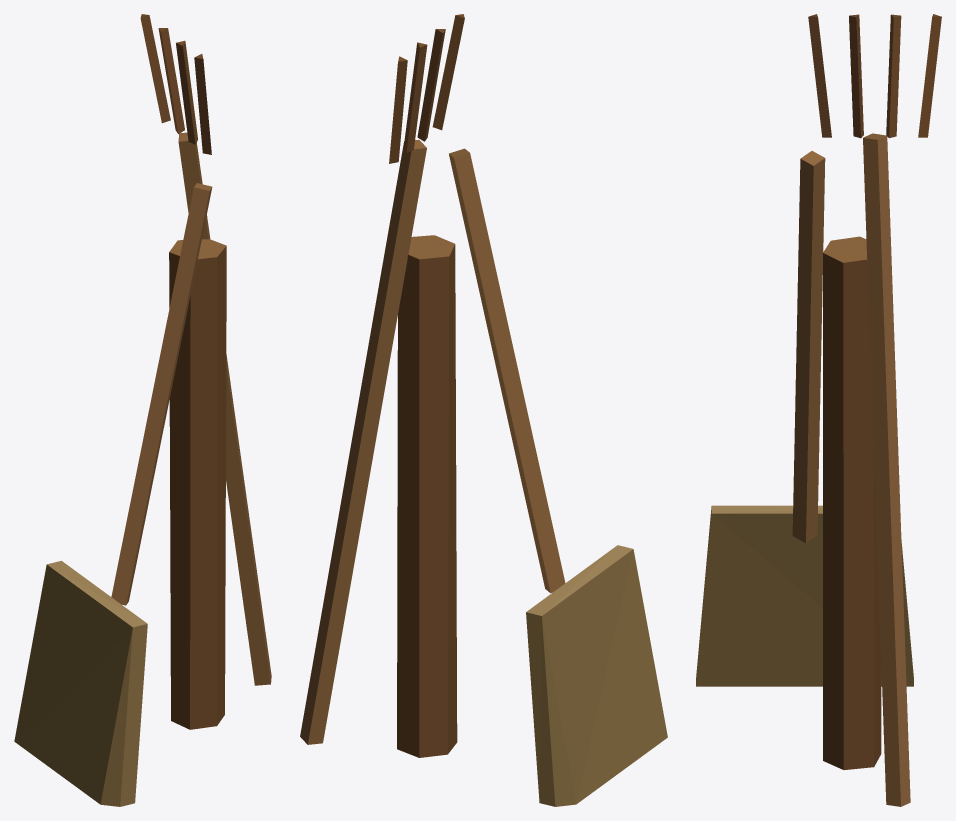
Rendered from winnowtools.glb.
3 views of the same model, side by side, from view 1: azimuth 30°, elevation 25°; view 2: azimuth 150°, elevation 25°; view 3: azimuth 270°, elevation 25° (orthographic). The views are drawn at different scales.
Visible parts, largest first — view 1: base; view 2: base; view 3: base.
Part boxes in pixels (bbox=[...]): base: bbox=[14, 14, 271, 806]; base: bbox=[300, 14, 667, 806]; base: bbox=[696, 14, 941, 806].
Size of the model in its own units: 0.2077 by 0.522 by 0.1579.
